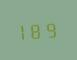eight: (32, 20, 44, 39)
nine: (45, 19, 57, 38)
one: (18, 21, 30, 40)
